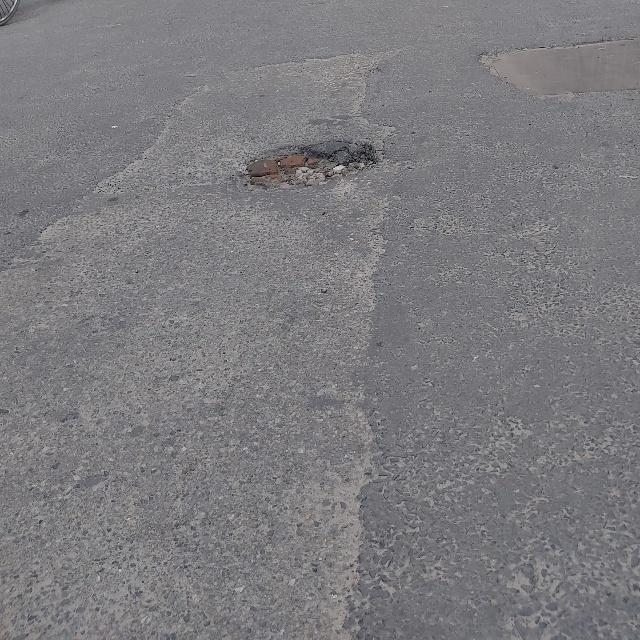Crack: (323, 226, 407, 639)
Pothole: (258, 137, 356, 204)
Surface Erosion: (450, 12, 640, 150)
